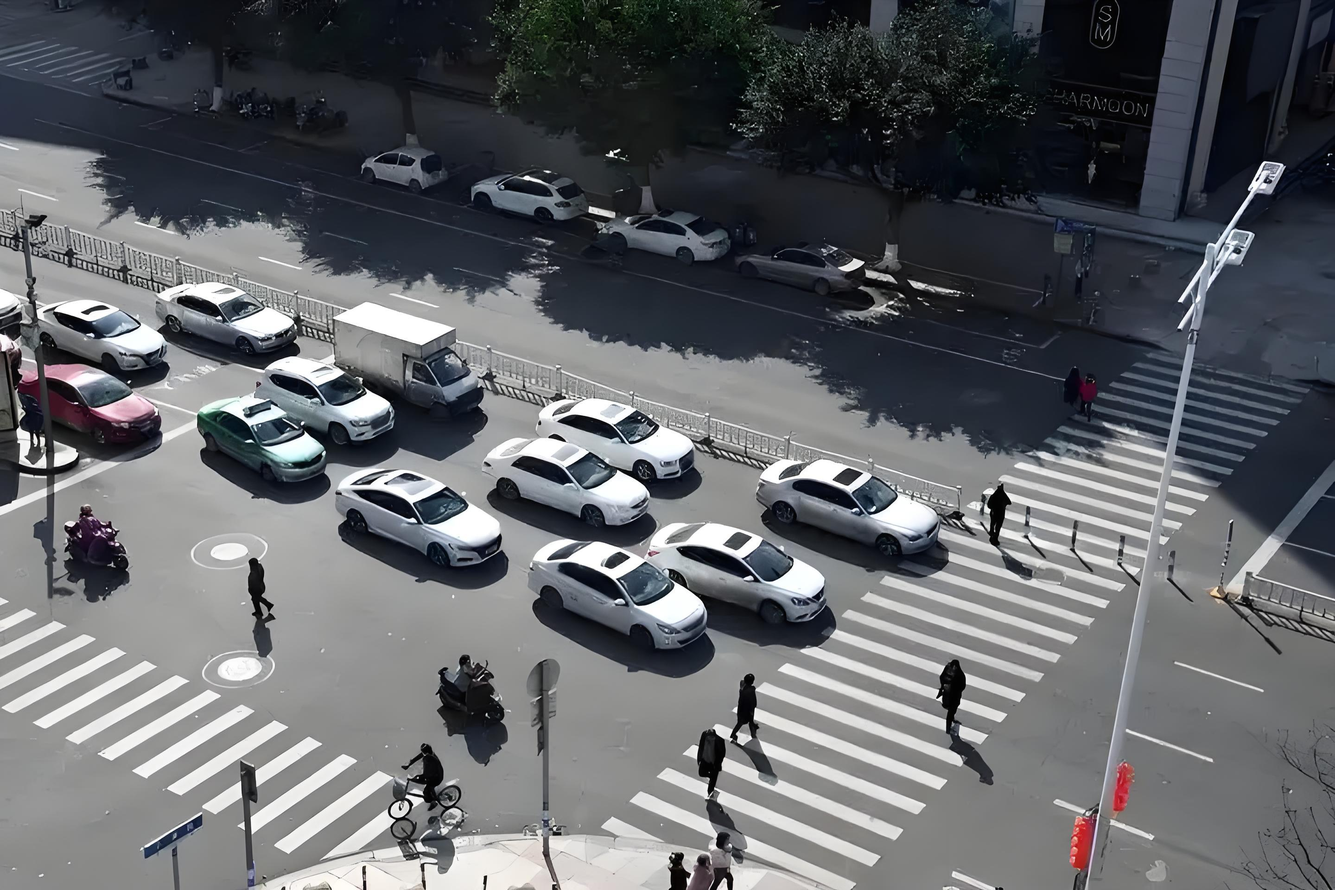bicycle: (375, 747, 474, 823)
car: (522, 516, 715, 658), (659, 495, 830, 650), (338, 455, 513, 590), (486, 421, 642, 549), (338, 298, 493, 419), (546, 379, 693, 499), (771, 454, 929, 555), (21, 343, 169, 447), (160, 267, 299, 366), (202, 382, 321, 495), (32, 297, 178, 386), (263, 357, 389, 459)
motorbike: (432, 649, 520, 738), (62, 500, 148, 582)
person: (924, 654, 972, 742), (696, 722, 744, 802), (726, 666, 770, 743), (1055, 358, 1098, 420), (235, 550, 270, 615), (983, 483, 1013, 555)
